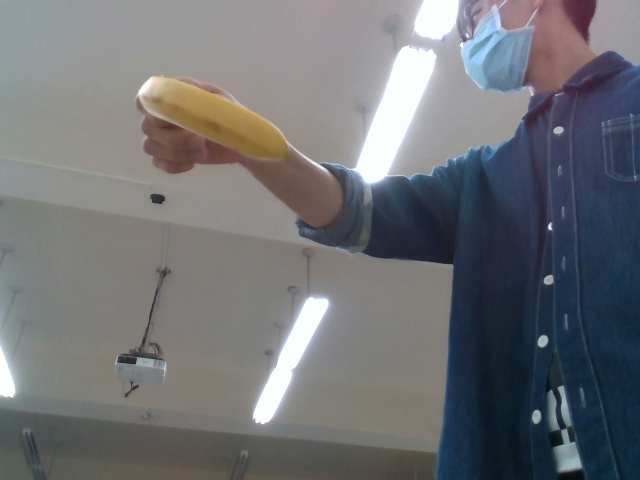banana: (137, 75, 290, 166)
